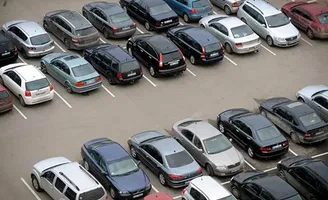Car: (81, 137, 151, 200), (128, 130, 202, 188), (172, 118, 244, 177), (218, 108, 290, 159), (259, 96, 328, 144), (31, 157, 108, 200), (237, 0, 301, 47), (126, 33, 187, 77), (41, 52, 102, 93), (199, 14, 261, 54), (84, 43, 143, 84), (43, 9, 100, 50), (0, 63, 55, 105), (166, 25, 224, 64), (277, 156, 328, 200), (230, 171, 303, 200), (1, 20, 55, 58), (82, 1, 136, 38), (120, 0, 180, 31), (281, 0, 328, 39), (181, 176, 237, 200), (296, 85, 328, 121), (164, 0, 213, 22), (0, 29, 19, 67), (210, 0, 245, 16), (0, 83, 13, 115), (143, 192, 174, 200)
